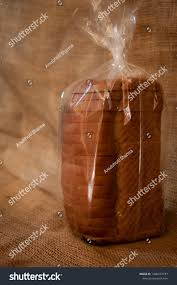bread: (53, 28, 168, 255)
